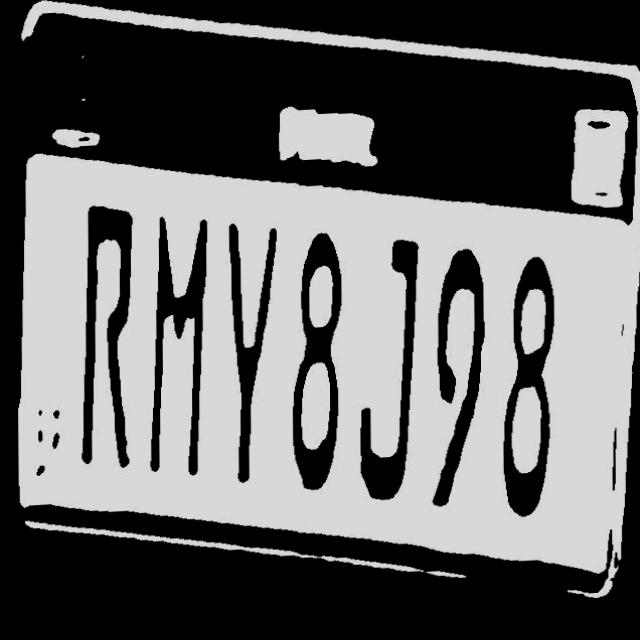8: (284, 235, 352, 494), (495, 264, 561, 529)
9: (424, 251, 498, 515)
j: (347, 239, 428, 511)
m: (142, 213, 214, 484)
r: (74, 203, 145, 483)
y: (217, 223, 287, 487)
